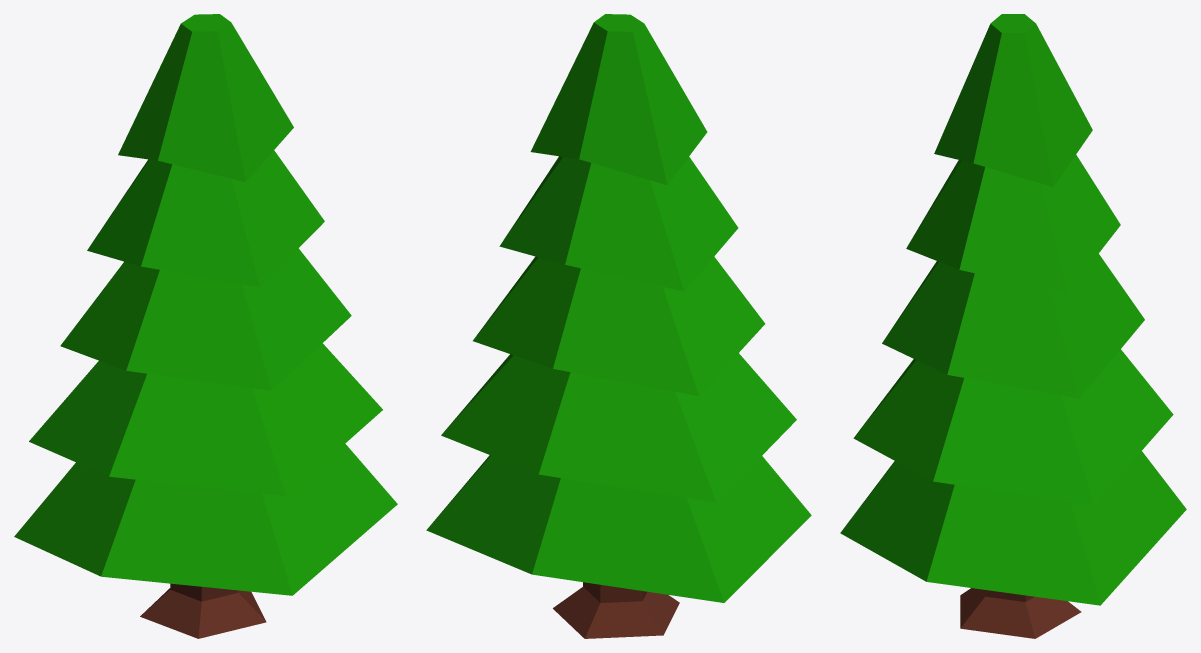
The model's file is Tree 2.fbx.
3 renders of one model, left to right at view 1: azimuth 30°, elevation 25°; view 2: azimuth 150°, elevation 25°; view 3: azimuth 270°, elevation 25°, orthographic.
Parts seen in each view (by area): view 1: Tree2; view 2: Tree2; view 3: Tree2.
Boxes of the visible parts, box(x1,y1,x2,y2) form: Tree2: box(14, 14, 397, 638); Tree2: box(426, 14, 811, 638); Tree2: box(840, 14, 1186, 638).
Size of the model in its own units: 1.92 by 3.63 by 1.94.
